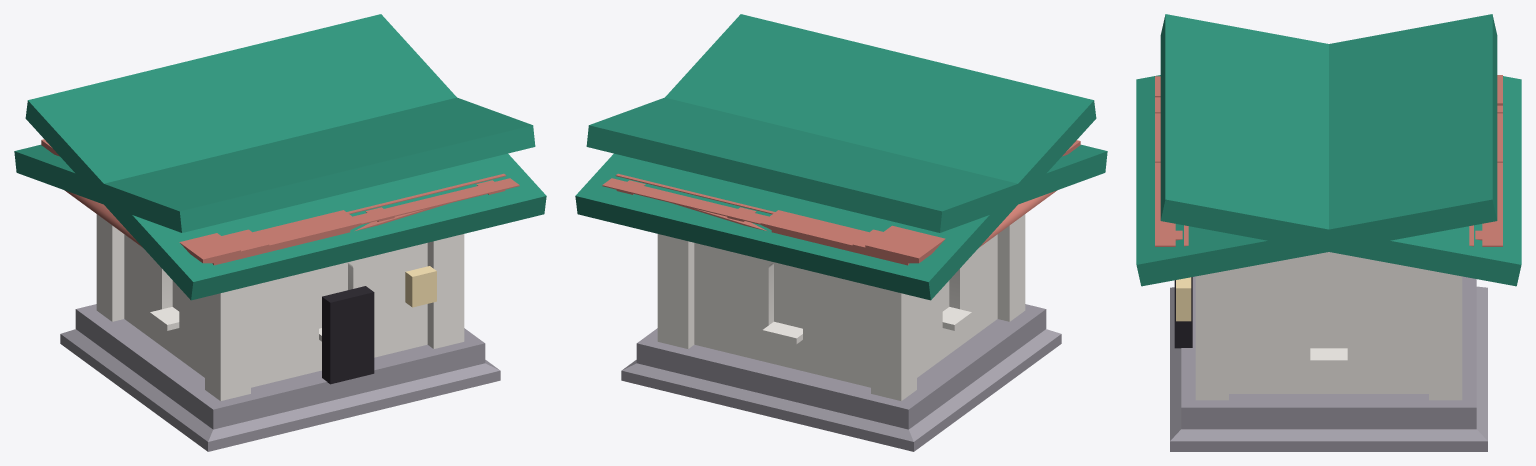
File: asian-house.glb
The picture shows the model from 3 angles, left to right: view 1: azimuth 30°, elevation 25°; view 2: azimuth 150°, elevation 25°; view 3: azimuth 270°, elevation 25°; orthographic projection. The views are drawn at different scales.
Visible parts, largest first — view 1: body, glow; view 2: body; view 3: body, glow.
Boxes of the visible parts, x1,y1,x2,y2 form: body: [14, 14, 546, 451]; glow: [405, 266, 436, 307]; body: [575, 14, 1107, 451]; body: [1136, 14, 1521, 451]; glow: [1176, 277, 1191, 321].
Bounding box in the file's own units: 1.45 × 0.9784 × 1.27.
